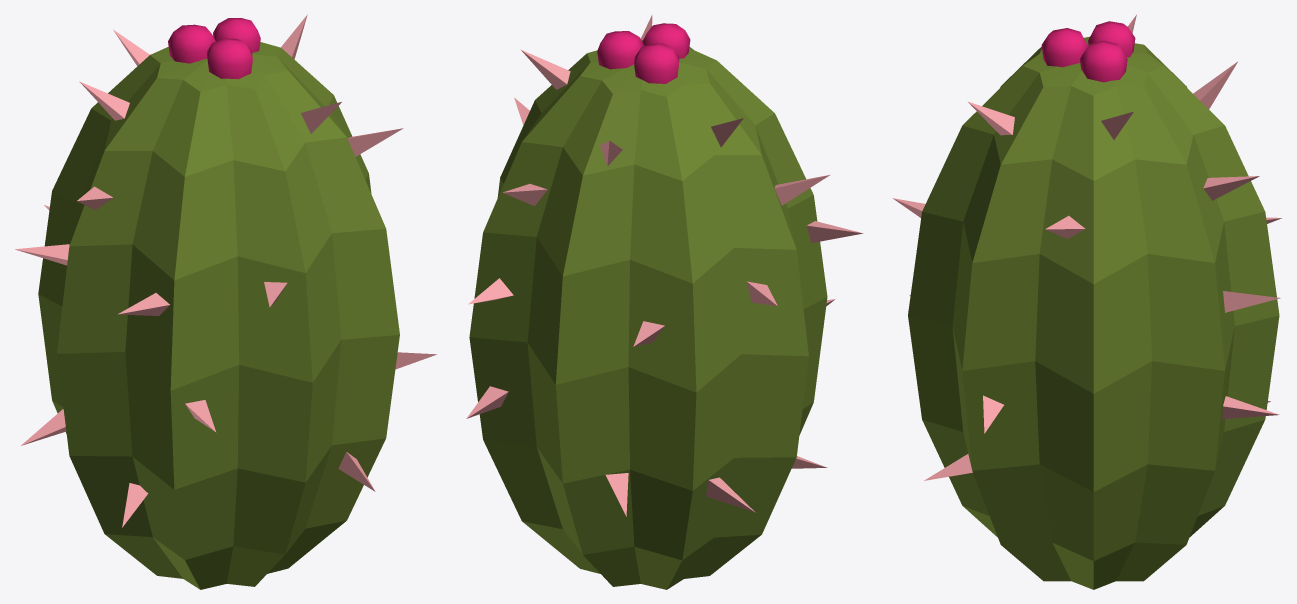
File: Cactus_13_B.fbx
3 renders of one model, left to right at view 1: azimuth 30°, elevation 25°; view 2: azimuth 150°, elevation 25°; view 3: azimuth 270°, elevation 25°, orthographic.
Parts seen in each view (by area): view 1: Cactus_13_B; view 2: Cactus_13_B; view 3: Cactus_13_B.
Part boxes in pixels (<box>): Cactus_13_B: <box>15,14,436,589</box>; Cactus_13_B: <box>466,15,863,589</box>; Cactus_13_B: <box>892,14,1281,589</box>.
Bounding box in the file's own units: 97.69 × 155 × 100.
